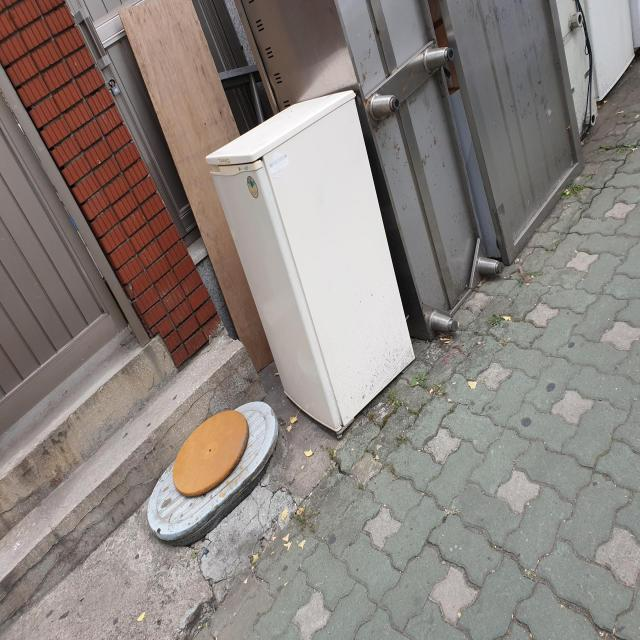refrigerator: (204, 89, 419, 438)
